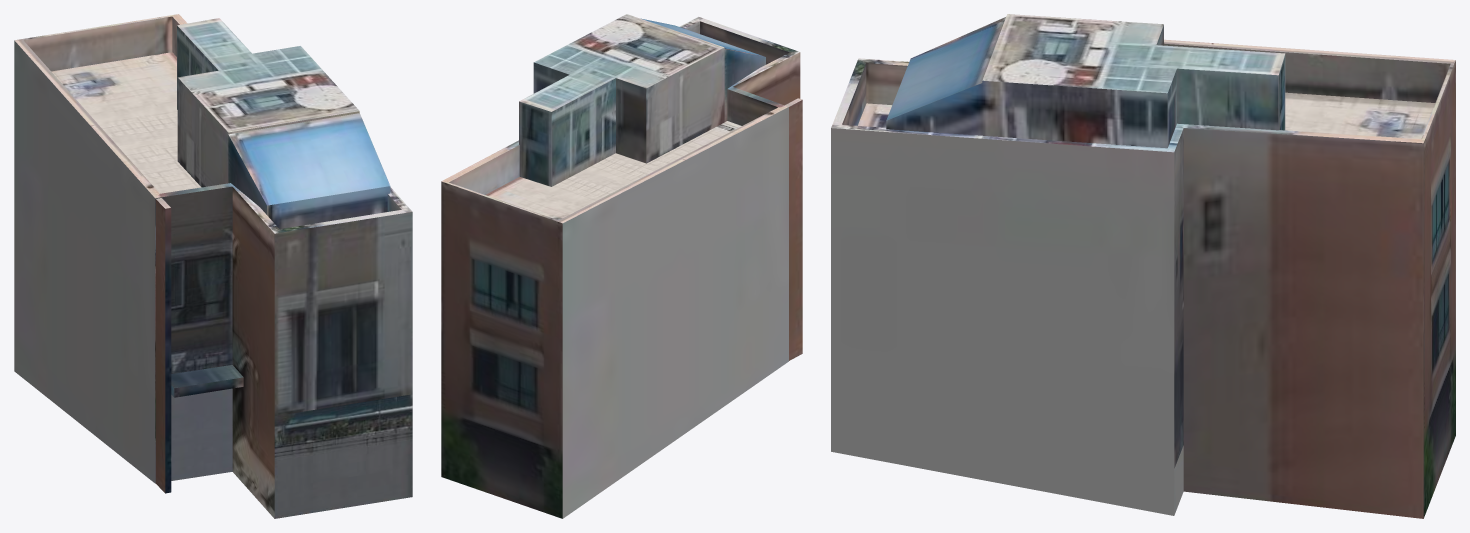
The picture shows the model from 3 angles, left to right: view 1: azimuth 30°, elevation 25°; view 2: azimuth 150°, elevation 25°; view 3: azimuth 270°, elevation 25°; orthographic projection. The views are drawn at different scales.
Visible parts, largest first — view 1: B280264033901063A0; view 2: B280264033901063A0; view 3: B280264033901063A0.
Part boxes in pixels (left/top/right/bottom): B280264033901063A0: left=14, top=14, right=412, bottom=518; B280264033901063A0: left=441, top=14, right=802, bottom=518; B280264033901063A0: left=831, top=14, right=1455, bottom=518.
Size of the model in its own units: 6.87 by 11.04 by 14.52.
1 material, 1 textured.
